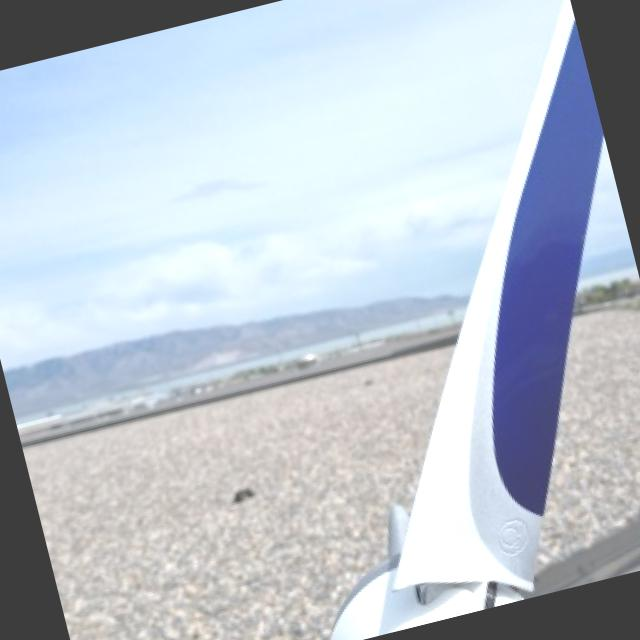healthy: (332, 0, 604, 640)
